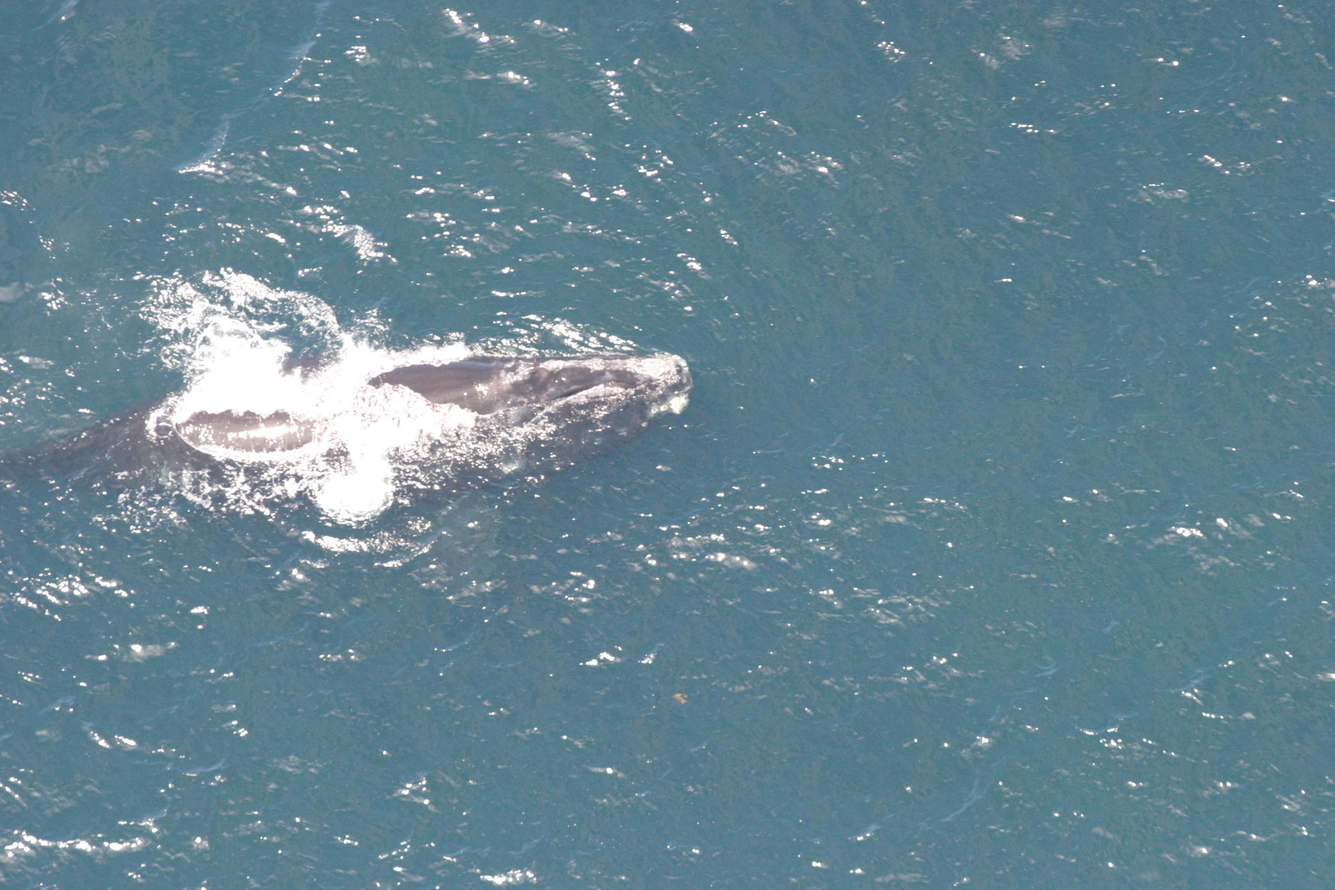whale: (0, 337, 699, 626)
